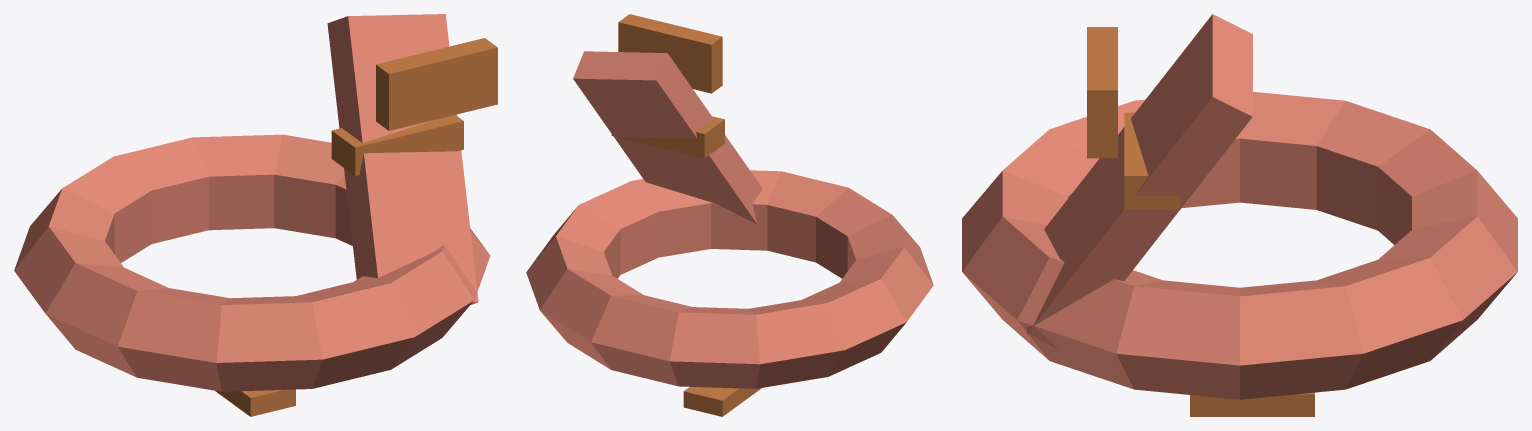
The model's file is sig_wolf.glb.
The picture shows the model from 3 angles, left to right: view 1: azimuth 30°, elevation 25°; view 2: azimuth 150°, elevation 25°; view 3: azimuth 270°, elevation 25°; orthographic projection. The views are drawn at different scales.
Visible parts, largest first — view 1: Torus, Cube, Cube.001, Cube.003, Cube.002; view 2: Torus, Cube, Cube.001, Cube.003, Cube.002; view 3: Torus, Cube, Cube.001, Cube.002, Cube.003.
Part boxes in pixels (x1=…): Torus: x1=14, y1=134, x2=490, y2=391; Cube: x1=327, y1=14, x2=478, y2=304; Cube.001: x1=376, y1=38, x2=497, y2=130; Cube.003: x1=331, y1=115, x2=463, y2=175; Cube.002: x1=215, y1=389, x2=295, y2=416; Torus: x1=526, y1=170, x2=933, y2=388; Cube: x1=573, y1=51, x2=762, y2=224; Cube.001: x1=618, y1=14, x2=722, y2=93; Cube.003: x1=611, y1=116, x2=724, y2=158; Cube.002: x1=683, y1=387, x2=761, y2=416; Torus: x1=962, y1=92, x2=1517, y2=399; Cube: x1=1027, y1=14, x2=1252, y2=349; Cube.001: x1=1087, y1=27, x2=1117, y2=158; Cube.002: x1=1190, y1=392, x2=1314, y2=416; Cube.003: x1=1124, y1=112, x2=1180, y2=209.
Size of the model in its own units: 0.456 by 0.3874 by 0.4446.
